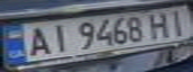4: (93, 16, 115, 47)
6: (112, 15, 133, 45)
8: (127, 14, 148, 43)
9: (72, 19, 96, 49)
A: (18, 25, 54, 57)
H: (145, 10, 175, 39)
I: (45, 21, 75, 54), (163, 7, 193, 36)
